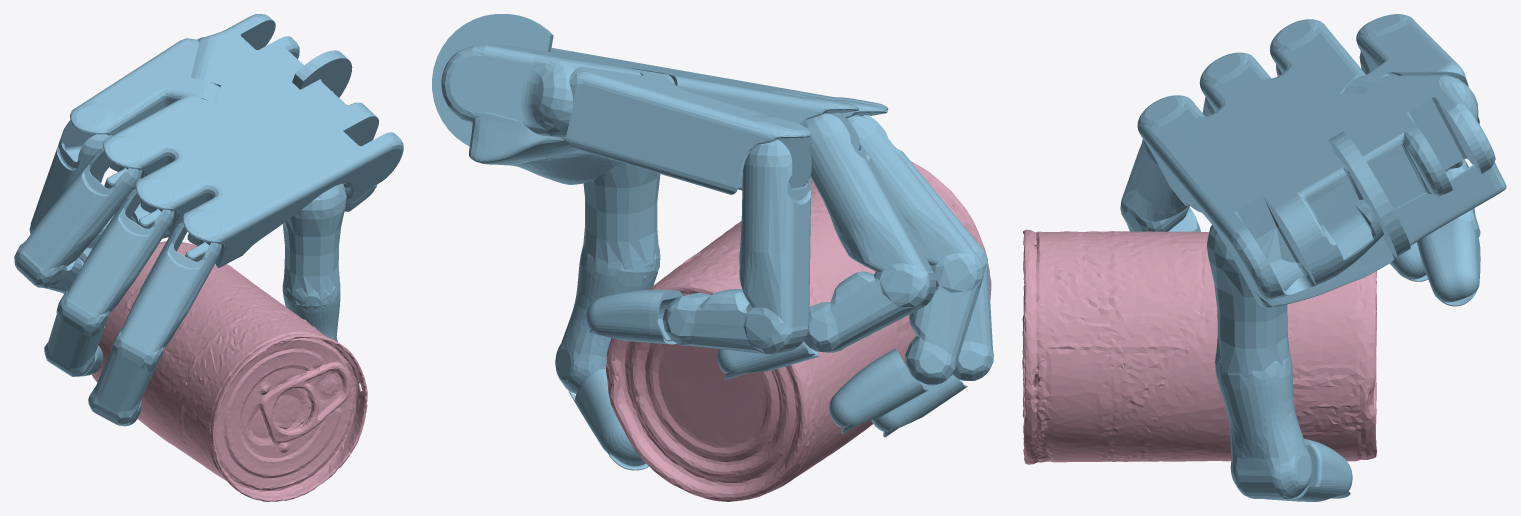
3 renders of one model, left to right at view 1: azimuth 30°, elevation 25°; view 2: azimuth 150°, elevation 25°; view 3: azimuth 270°, elevation 25°, orthographic. The views are drawn at different scales.
Parts seen in each view (by area): view 1: world; view 2: world; view 3: world.
Boxes of the visible parts, x1,y1,x2,y2 form: world: (14,14,403,501); world: (432,14,993,501); world: (1022,14,1506,501).
Size of the model in its own units: 0.1538 by 0.1382 by 0.1391.
